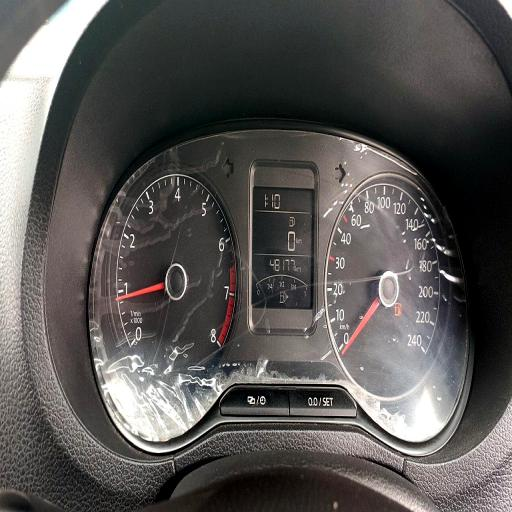tachometer: (105, 164, 243, 381)
